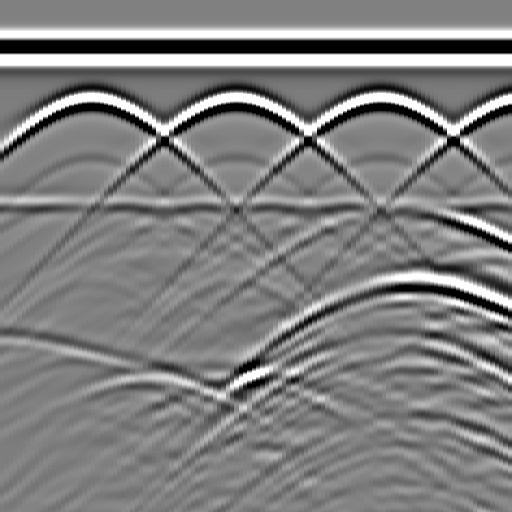grout_surface: (1, 191, 512, 221)
rebar: (69, 81, 109, 121), (214, 81, 254, 121), (358, 81, 398, 121), (502, 81, 512, 121)
rock_surface: (1, 305, 511, 379)
water_void: (380, 185, 440, 225)
